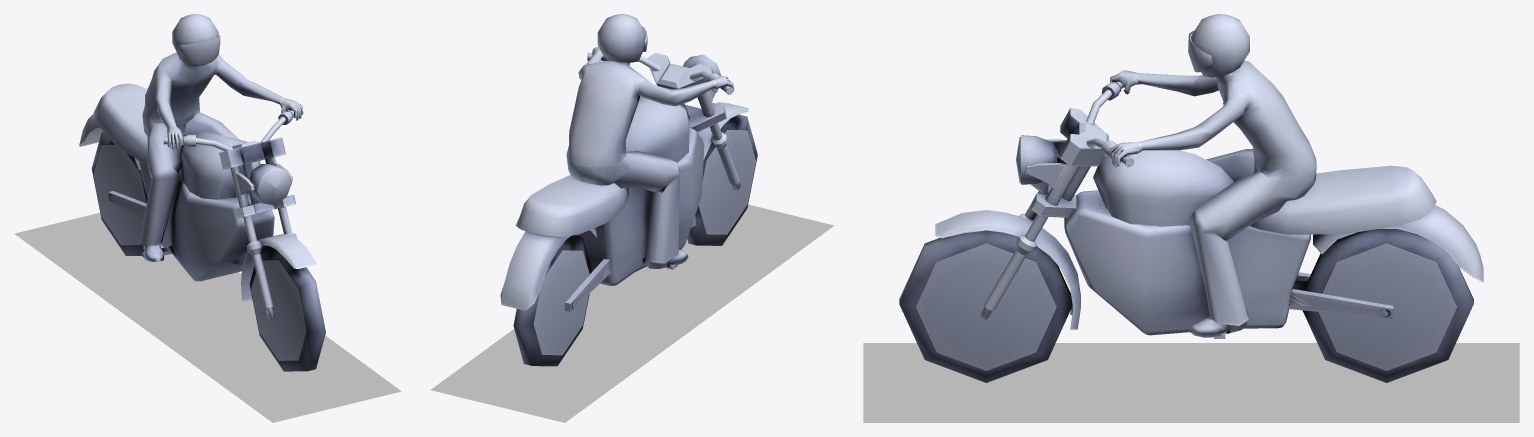
File: moto.fbx
3 renders of one model, left to right at view 1: azimuth 30°, elevation 25°; view 2: azimuth 150°, elevation 25°; view 3: azimuth 270°, elevation 25°, orthographic. The views are drawn at different scales.
Parts seen in each view (by area): view 1: model_moto_shadow, model_moto_g, model_moto_q, model_moto_o, model_moto_o1, model_moto_n, model_moto_i, model_moto_h, model_moto_m, model_moto_p, model_moto_c, model_moto_y (+5 smaller); view 2: model_moto_shadow, model_moto_g, model_moto_q, model_moto_o1, model_moto_o, model_moto_n, model_moto_i, model_moto_x, model_moto_c, model_moto_p, model_moto_m, model_moto_a1 (+2 smaller); view 3: model_moto_shadow, model_moto_g, model_moto_q, model_moto_o, model_moto_o1, model_moto_n, model_moto_i, model_moto_h, model_moto_x, model_moto_c, model_moto_z, model_moto_p (+3 smaller).
Boxes of the visible parts, bbox=[...] form: model_moto_shadow: bbox=[14, 212, 401, 422]; model_moto_g: bbox=[139, 52, 303, 261]; model_moto_q: bbox=[139, 161, 274, 281]; model_moto_o: bbox=[249, 246, 325, 371]; model_moto_o1: bbox=[91, 131, 147, 255]; model_moto_n: bbox=[94, 83, 183, 166]; model_moto_i: bbox=[181, 132, 260, 199]; model_moto_h: bbox=[241, 234, 317, 302]; model_moto_m: bbox=[230, 166, 274, 318]; model_moto_p: bbox=[219, 137, 285, 169]; model_moto_c: bbox=[172, 14, 218, 65]; model_moto_y: bbox=[257, 169, 291, 204]; model_moto_shadow: bbox=[430, 204, 834, 422]; model_moto_g: bbox=[566, 47, 734, 268]; model_moto_q: bbox=[575, 128, 704, 285]; model_moto_o1: bbox=[513, 235, 592, 366]; model_moto_o: bbox=[687, 114, 757, 245]; model_moto_n: bbox=[515, 174, 628, 237]; model_moto_i: bbox=[625, 97, 689, 162]; model_moto_x: bbox=[500, 228, 596, 310]; model_moto_c: bbox=[597, 14, 645, 62]; model_moto_p: bbox=[647, 53, 713, 89]; model_moto_m: bbox=[697, 88, 740, 190]; model_moto_a1: bbox=[565, 259, 611, 311]; model_moto_shadow: bbox=[863, 343, 1519, 422]; model_moto_g: bbox=[1110, 60, 1316, 337]; model_moto_q: bbox=[1064, 190, 1310, 335]; model_moto_o: bbox=[899, 230, 1072, 382]; model_moto_o1: bbox=[1302, 229, 1473, 382]; model_moto_n: bbox=[1250, 165, 1436, 234]; model_moto_i: bbox=[1093, 142, 1233, 226]; model_moto_h: bbox=[935, 210, 1080, 329]; model_moto_x: bbox=[1313, 205, 1483, 282]; model_moto_c: bbox=[1191, 14, 1249, 77]; model_moto_z: bbox=[979, 163, 1079, 320]; model_moto_p: bbox=[1060, 108, 1108, 166].
Bounding box in the file's own units: 0.9443 × 1.87 × 3.03.
